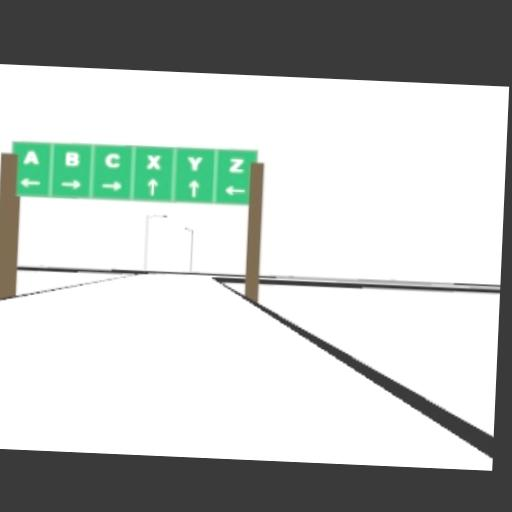A: (22, 150, 38, 164)
B: (65, 150, 79, 165)
C: (105, 152, 119, 167)
Left: (223, 184, 245, 195), (19, 177, 41, 188)
Right: (99, 179, 123, 191), (59, 179, 81, 190)
Straight: (187, 180, 199, 196), (147, 178, 157, 194)
X: (146, 154, 160, 168)
Y: (187, 156, 201, 170)
Z: (228, 157, 242, 172)
